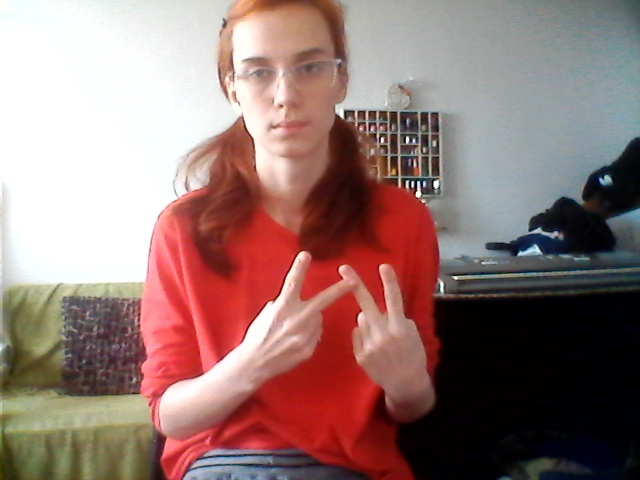w: (245, 240, 429, 389)
